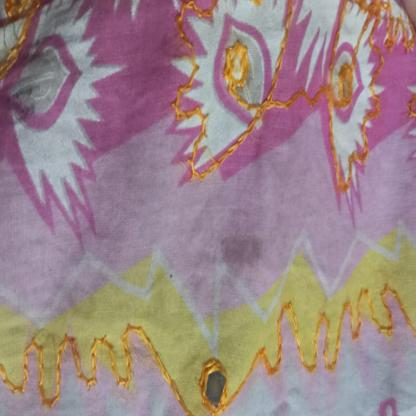spot: (217, 214, 272, 277)
